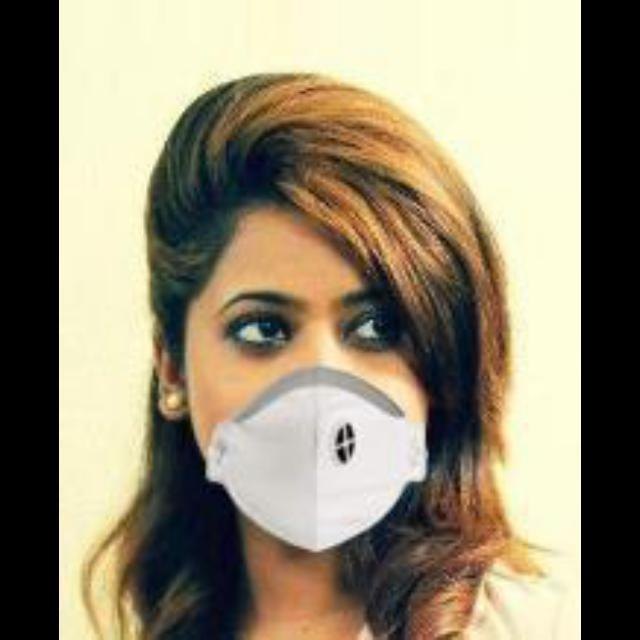suspicion: (126, 94, 474, 590)
